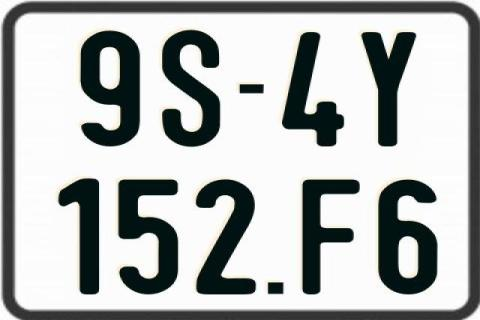0: (281, 30, 346, 146), (77, 31, 139, 151), (378, 178, 440, 298), (116, 179, 177, 299), (195, 178, 255, 296), (58, 177, 105, 295)
F: (301, 178, 364, 294)
S: (162, 29, 226, 151)
Y: (359, 32, 416, 150)
